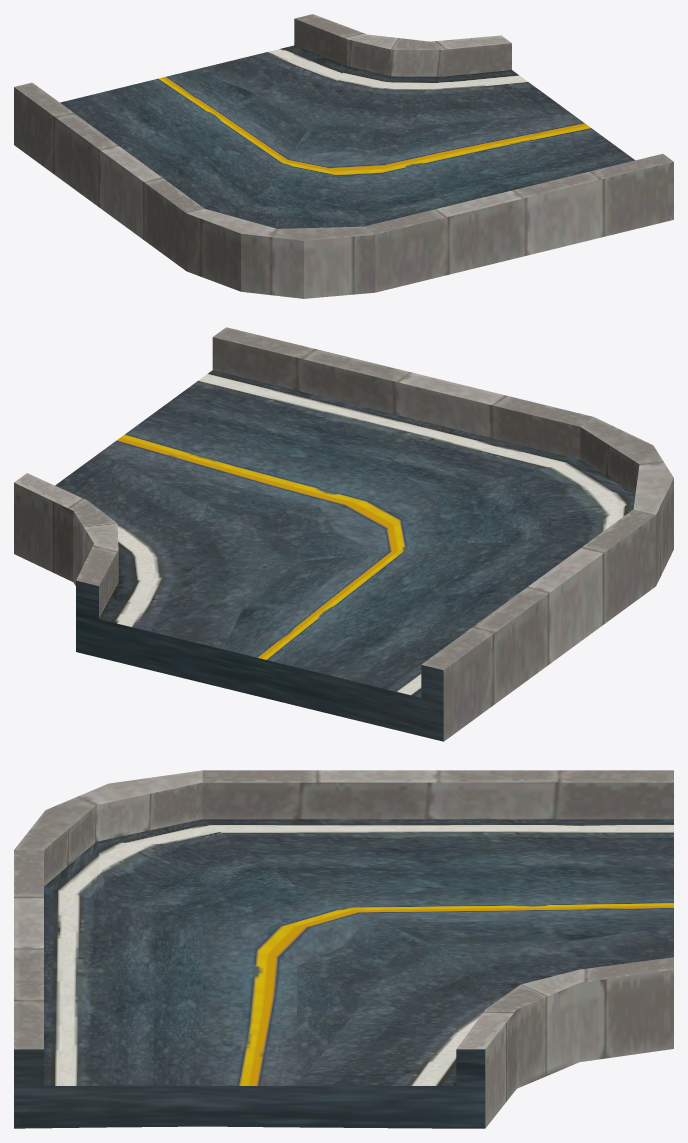
The model's file is curved_road.obj.
3 views of the same model, one above another, from view 1: azimuth 30°, elevation 25°; view 2: azimuth 150°, elevation 25°; view 3: azimuth 270°, elevation 25° (orthographic). The views are drawn at different scales.
Parts seen in each view (by area): view 1: Cube.001; view 2: Cube.001; view 3: Cube.001.
Boxes of the visible parts, x1,y1,x2,y2 form: Cube.001: (14, 14, 673, 298); Cube.001: (14, 327, 673, 741); Cube.001: (14, 770, 673, 1128).
Bounding box in the file's own units: 1.96 × 0.26 × 1.96.
